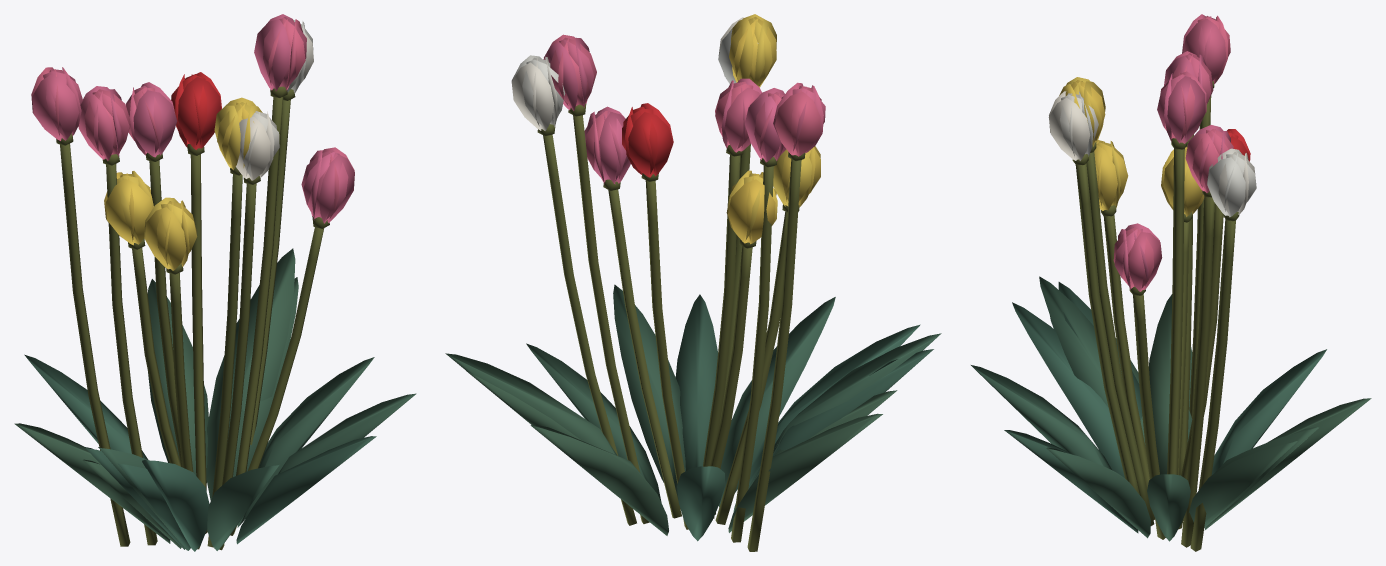
The model's file is bed_tulips.glb.
3 renders of one model, left to right at view 1: azimuth 30°, elevation 25°; view 2: azimuth 150°, elevation 25°; view 3: azimuth 270°, elevation 25°, orthographic. The views are drawn at different scales.
Parts seen in each view (by area): view 1: Sammel Pflanze, Sammel Putz; view 2: Sammel Pflanze, Sammel Putz; view 3: Sammel Pflanze, Sammel Putz.
Part boxes in pixels (<box>): Sammel Pflanze: <box>14,14,416,551</box>; Sammel Putz: <box>56,86,329,550</box>; Sammel Pflanze: <box>445,14,941,541</box>; Sammel Putz: <box>537,103,805,551</box>; Sammel Pflanze: <box>971,14,1371,541</box>; Sammel Putz: <box>1072,81,1239,551</box>.
Size of the model in its own units: 0.321 by 0.4159 by 0.3337.
